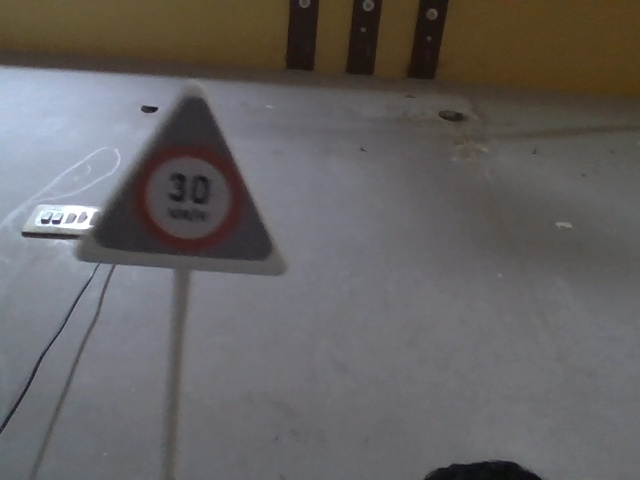speedlimit: (92, 59, 289, 272)
